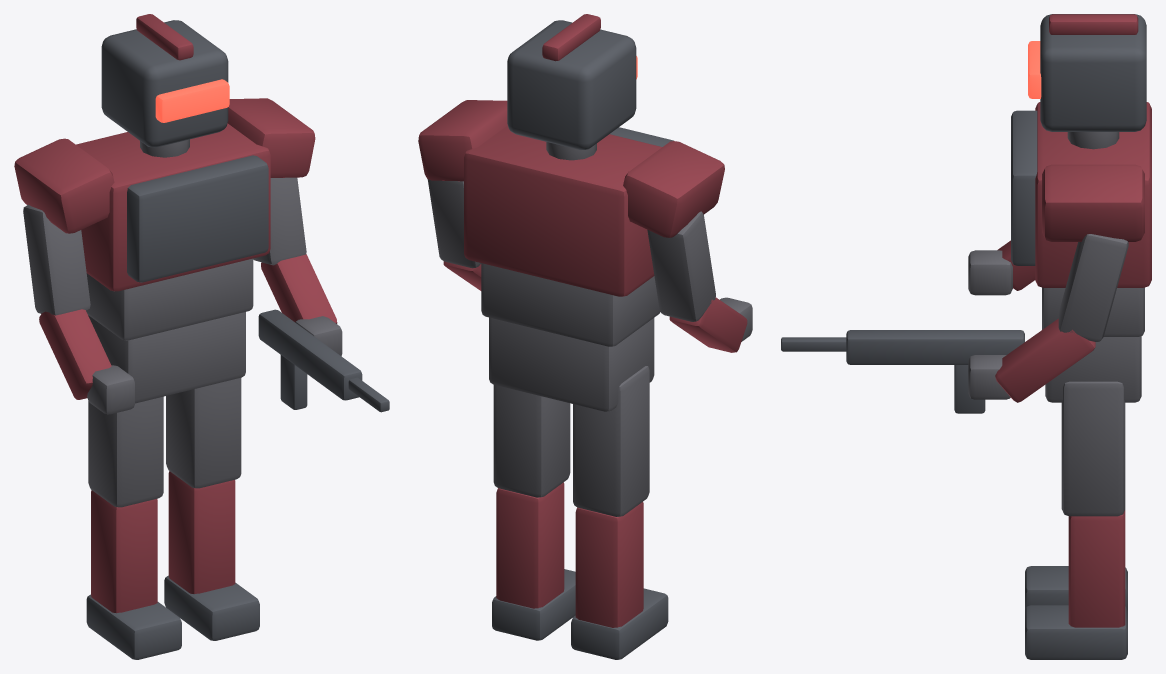
The model's file is enemy.glb.
The picture shows the model from 3 angles, left to right: view 1: azimuth 30°, elevation 25°; view 2: azimuth 150°, elevation 25°; view 3: azimuth 270°, elevation 25°; orthographic projection. The views are drawn at different scales.
Parts seen in each view (by area): view 1: chestplate, head, chest, pelvis, abdomen, thigh1, shin1, thigh-1, shin-1, shoulder-1, uarm-1, shoulder1 (+13 smaller); view 2: chest, head, pelvis, abdomen, thigh-1, shin1, shin-1, thigh1, shoulder-1, uarm-1, shoulder1, boot-1 (+8 smaller); view 3: head, thigh1, shoulder1, chest, shin1, gun_body, uarm1, boot1, farm1, chestplate, pelvis, abdomen (+9 smaller).
Boxes of the visible parts, x1=… form: chestplate: x1=127, y1=155, x2=268, y2=282; head: x1=101, y1=20, x2=228, y2=147; chest: x1=76, y1=123, x2=270, y2=291; pelvis: x1=88, y1=312, x2=245, y2=403; abdomen: x1=86, y1=258, x2=253, y2=340; thigh1: x1=166, y1=378, x2=241, y2=488; shin1: x1=168, y1=471, x2=235, y2=593; thigh-1: x1=88, y1=396, x2=163, y2=507; shin-1: x1=91, y1=490, x2=157, y2=613; shoulder-1: x1=14, y1=138, x2=114, y2=233; uarm-1: x1=23, y1=204, x2=90, y2=315; shoulder1: x1=227, y1=98, x2=315, y2=177; chest: x1=464, y1=125, x2=662, y2=296; head: x1=507, y1=20, x2=636, y2=149; pelvis: x1=489, y1=317, x2=654, y2=411; abdomen: x1=481, y1=263, x2=660, y2=346; thigh-1: x1=573, y1=366, x2=649, y2=516; shin1: x1=496, y1=482, x2=564, y2=608; shin-1: x1=575, y1=502, x2=643, y2=627; thigh1: x1=493, y1=384, x2=570, y2=497; shoulder-1: x1=623, y1=141, x2=724, y2=237; uarm-1: x1=647, y1=211, x2=715, y2=321; shoulder1: x1=418, y1=100, x2=507, y2=181; boot-1: x1=571, y1=588, x2=668, y2=659; head: x1=1040, y1=14, x2=1146, y2=131; thigh1: x1=1061, y1=381, x2=1125, y2=516; shoulder1: x1=1042, y1=164, x2=1144, y2=241; chest: x1=1035, y1=102, x2=1151, y2=287; shin1: x1=1068, y1=510, x2=1125, y2=627; gun_body: x1=846, y1=330, x2=1024, y2=364; uarm1: x1=1058, y1=234, x2=1128, y2=341; boot1: x1=1025, y1=605, x2=1127, y2=659; farm1: x1=995, y1=318, x2=1095, y2=402; chestplate: x1=1011, y1=110, x2=1037, y2=265; pelvis: x1=1045, y1=336, x2=1141, y2=402; abdomen: x1=1042, y1=287, x2=1144, y2=336.
Bounding box in the file's own units: 0.8973 × 1.97 × 1.08.
